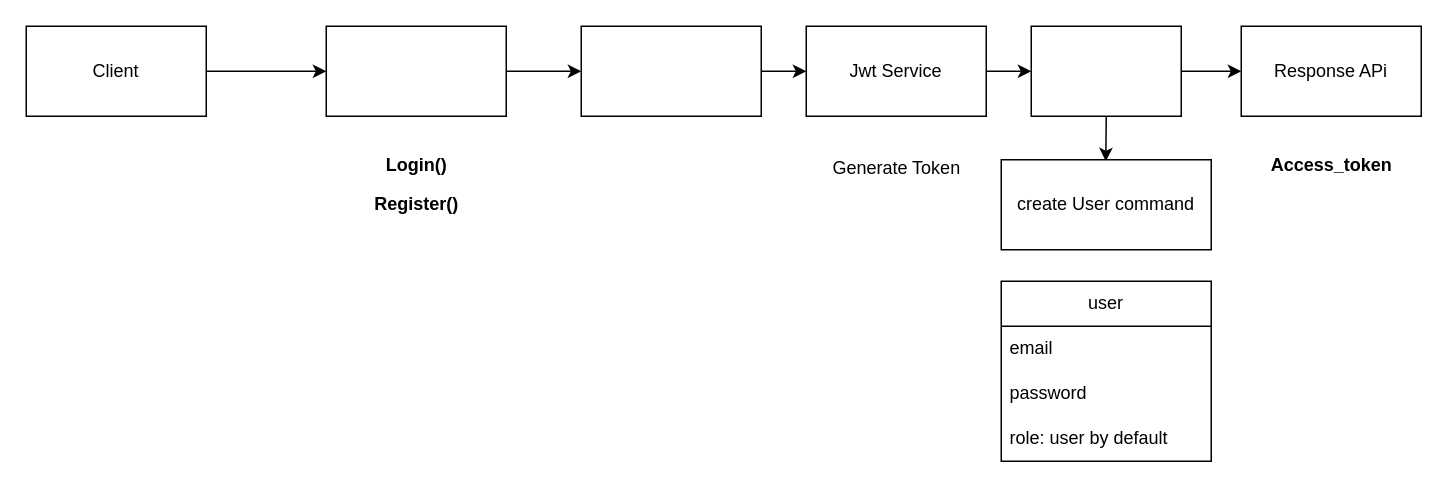
This 1448x488 diagram has some shape labels left out. The shapes that lost their labels are listed below. From the top down, each one's box as (x1, y1, x2, y2) in pixels, then its label:
(325, 25, 506, 116): AuthController
(580, 25, 761, 116): AuthService
(1030, 25, 1181, 116): UserService
